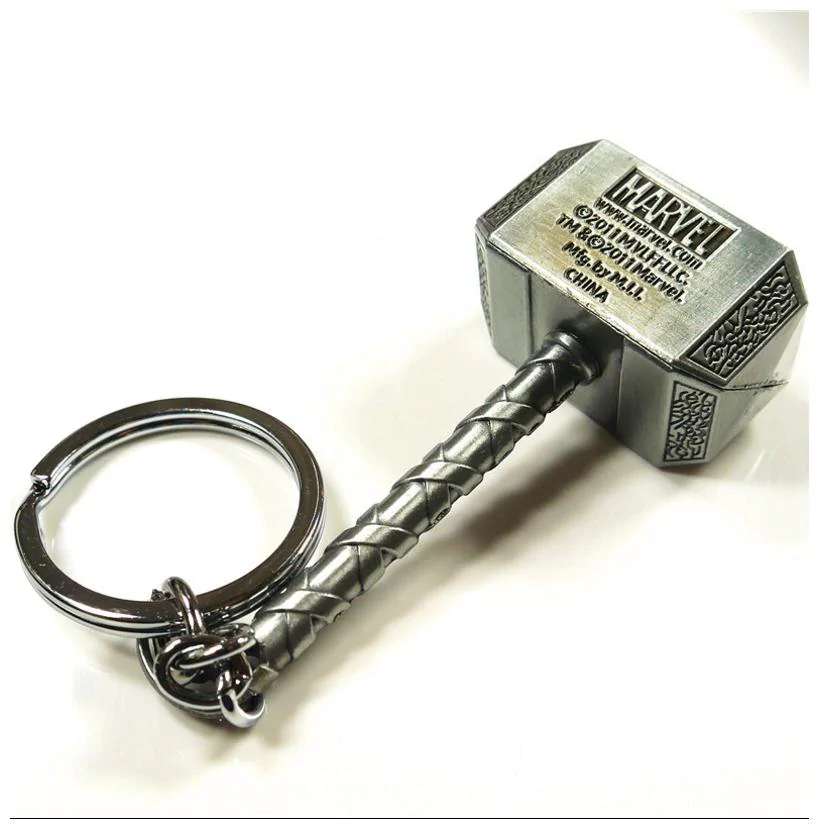THOR Hammer: (165, 105, 810, 725)
